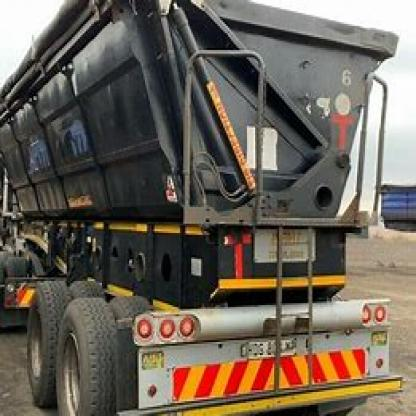dump_truck: (18, 11, 398, 414)
